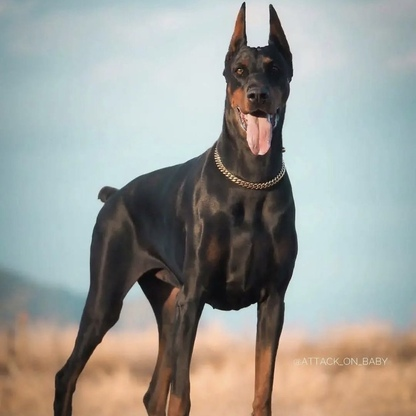doberman: (42, 4, 305, 413)
